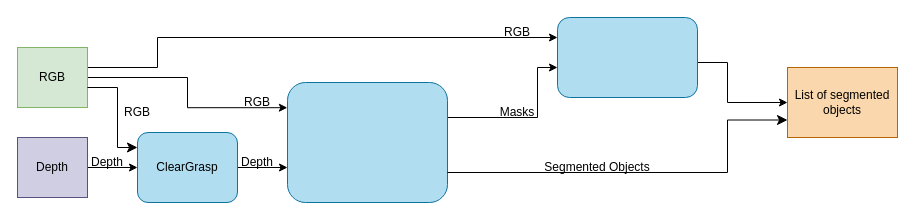
Some shapes in this 915 by 220 pixel diagram are drawn without their labels. The shapes that lost their labels are listed below. From the top down, each one's centre as x and y in pixels, then its label:
the point at 627,57: CNN Classifier
the point at 367,142: UOIS - Net - 3D
